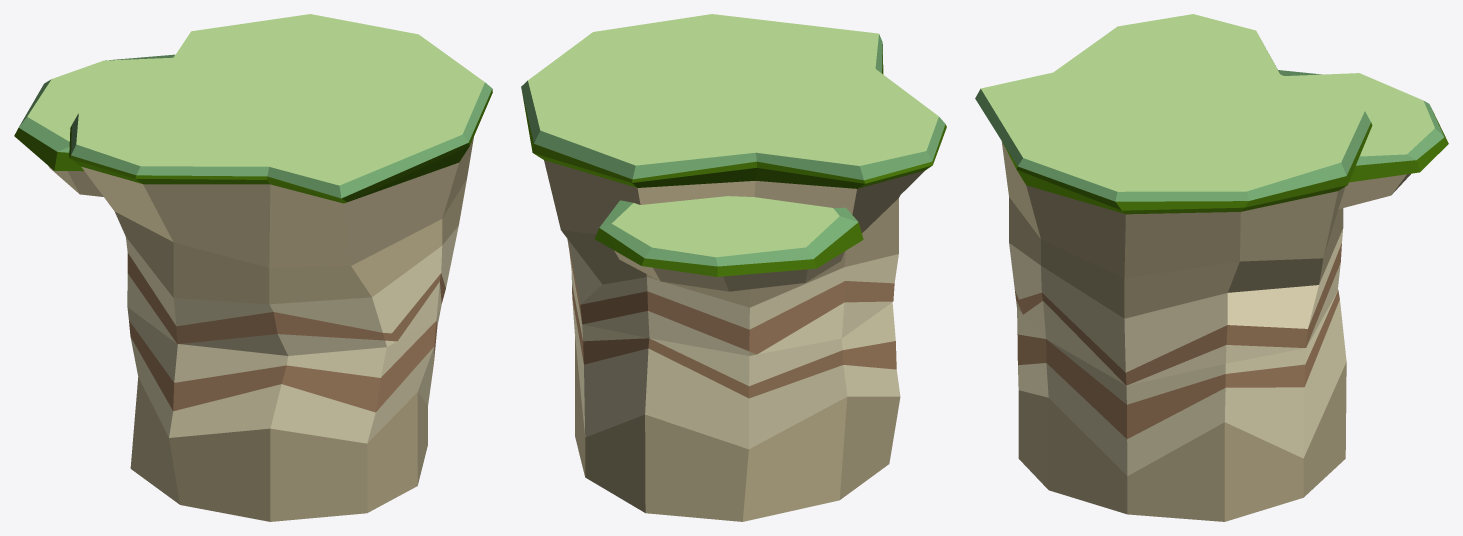
Rendered from cliff2.fbx.
The picture shows the model from 3 angles, left to right: view 1: azimuth 30°, elevation 25°; view 2: azimuth 150°, elevation 25°; view 3: azimuth 270°, elevation 25°; orthographic projection. The views are drawn at different scales.
Visible parts, largest first — view 1: Cylinder, Cylinder.001; view 2: Cylinder, Cylinder.001; view 3: Cylinder, Cylinder.001.
Part boxes in pixels (box(x1,y1,x2,y2)): Cylinder: box(69, 14, 492, 521); Cylinder.001: box(14, 54, 174, 196); Cylinder: box(521, 14, 946, 521); Cylinder.001: box(594, 196, 863, 291); Cylinder: box(975, 14, 1372, 521); Cylinder.001: box(1278, 70, 1448, 209).
Bounding box in the file's own units: 279 × 243 × 301.
